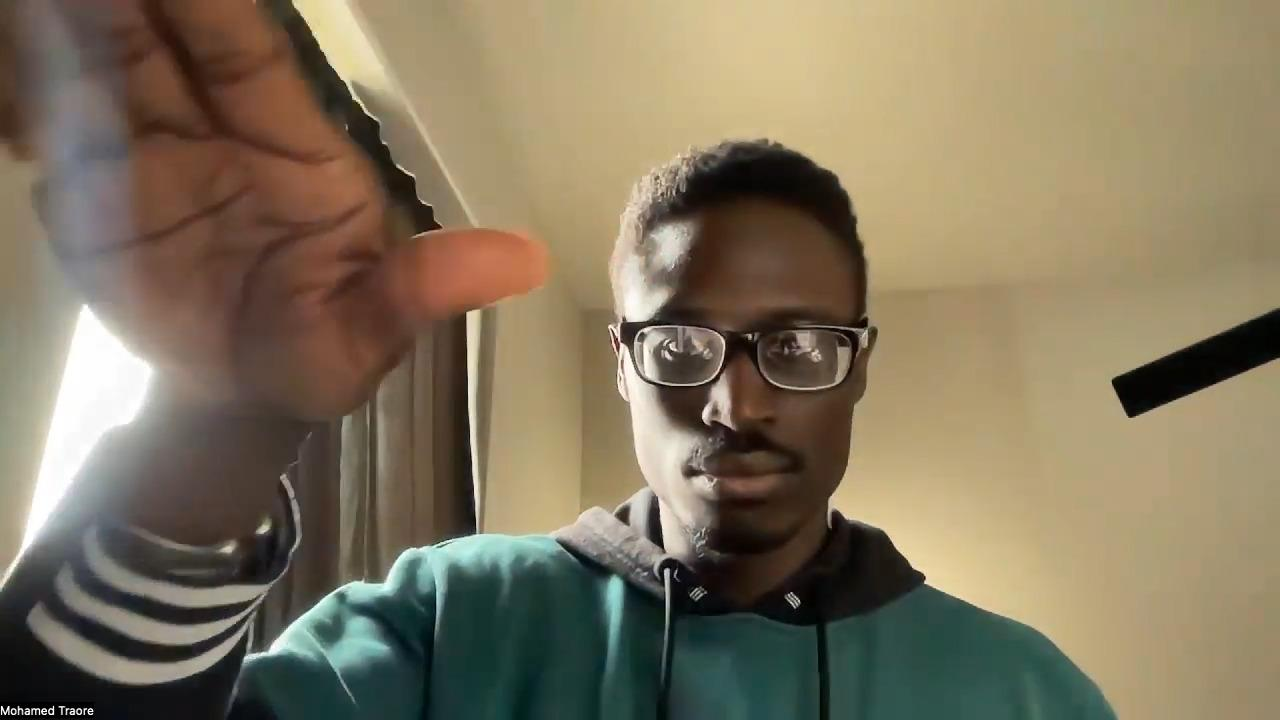Paper: (0, 0, 548, 429)
